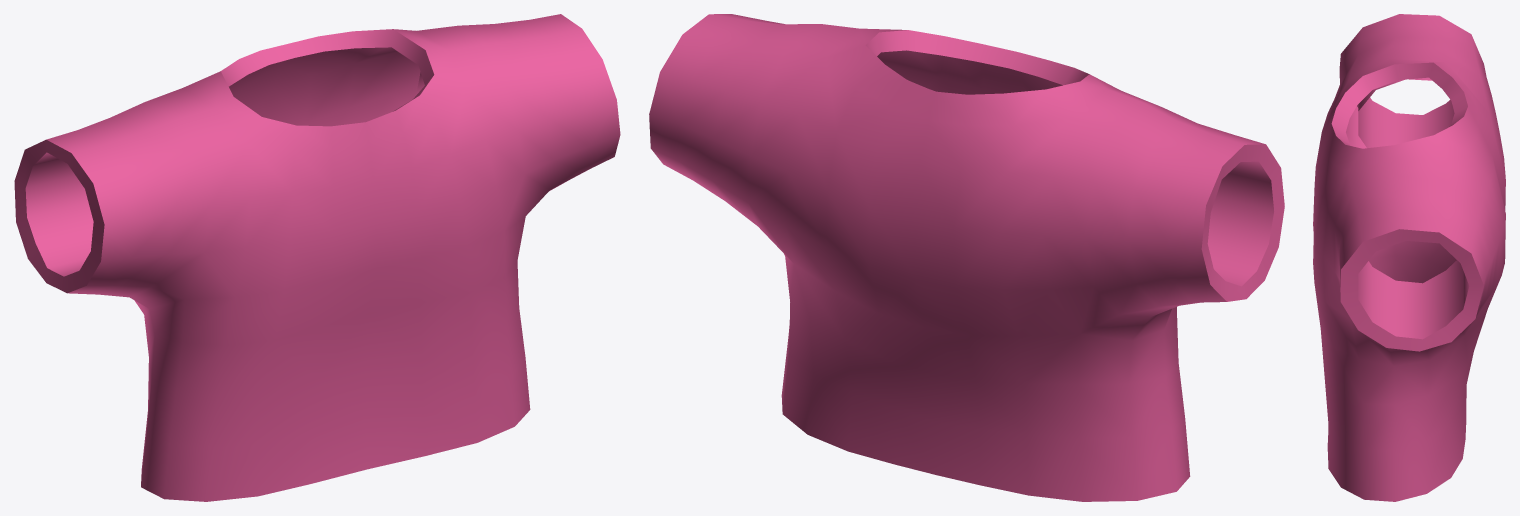
Rendered from Shirt.fbx.
The picture shows the model from 3 angles, left to right: view 1: azimuth 30°, elevation 25°; view 2: azimuth 150°, elevation 25°; view 3: azimuth 270°, elevation 25°; orthographic projection. The views are drawn at different scales.
Visible parts, largest first — view 1: Shirt; view 2: Shirt; view 3: Shirt.
Boxes of the visible parts, x1,y1,x2,y2 form: Shirt: [14, 14, 620, 501]; Shirt: [649, 14, 1284, 501]; Shirt: [1313, 14, 1505, 501].
Size of the model in its own units: 411 by 274 by 148.
